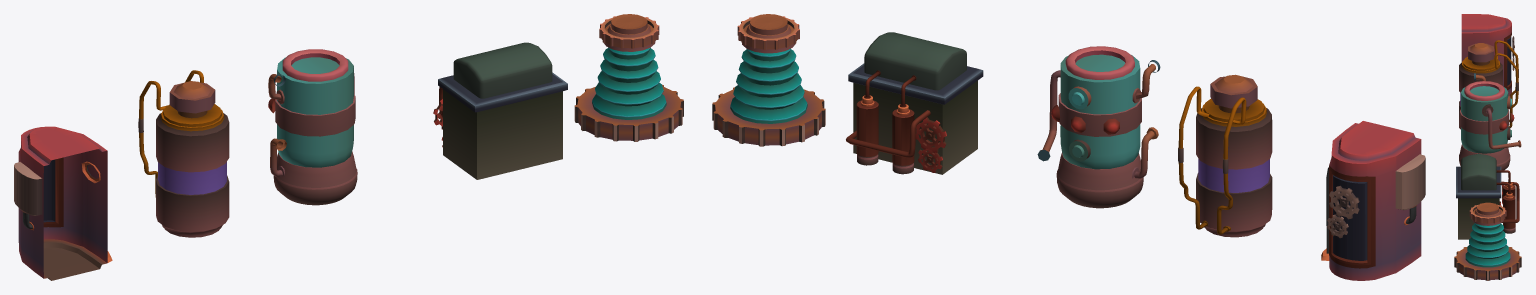
Rendered from End_t2_a4.fbx.
3 renders of one model, left to right at view 1: azimuth 30°, elevation 25°; view 2: azimuth 150°, elevation 25°; view 3: azimuth 270°, elevation 25°, orthographic. The views are drawn at different scales.
Parts seen in each view (by area): view 1: End_t2_a4_v1, End_t2_a4_v4, End_t2_a4_v3, End_t2_a4_v2, End_t2_a4_v5; view 2: End_t2_a4_v1, End_t2_a4_v3, End_t2_a4_v4, End_t2_a4_v2, End_t2_a4_v5; view 3: End_t2_a4_v3, End_t2_a4_v5, End_t2_a4_v1, End_t2_a4_v4, End_t2_a4_v2.
Boxes of the visible parts, x1,y1,x2,y2 form: End_t2_a4_v1: (433,42,567,179); End_t2_a4_v4: (14,126,112,280); End_t2_a4_v3: (268,49,357,205); End_t2_a4_v2: (138,70,229,237); End_t2_a4_v5: (574,14,683,141); End_t2_a4_v1: (846,32,983,174); End_t2_a4_v3: (1037,46,1160,208); End_t2_a4_v4: (1321,121,1425,280); End_t2_a4_v2: (1178,74,1272,237); End_t2_a4_v5: (712,14,825,146); End_t2_a4_v3: (1459,73,1521,170); End_t2_a4_v5: (1454,202,1521,280); End_t2_a4_v1: (1456,154,1519,239); End_t2_a4_v4: (1461,14,1514,95); End_t2_a4_v2: (1459,40,1518,129).
Size of the model in its own units: 28.31 by 5.93 by 4.04.
